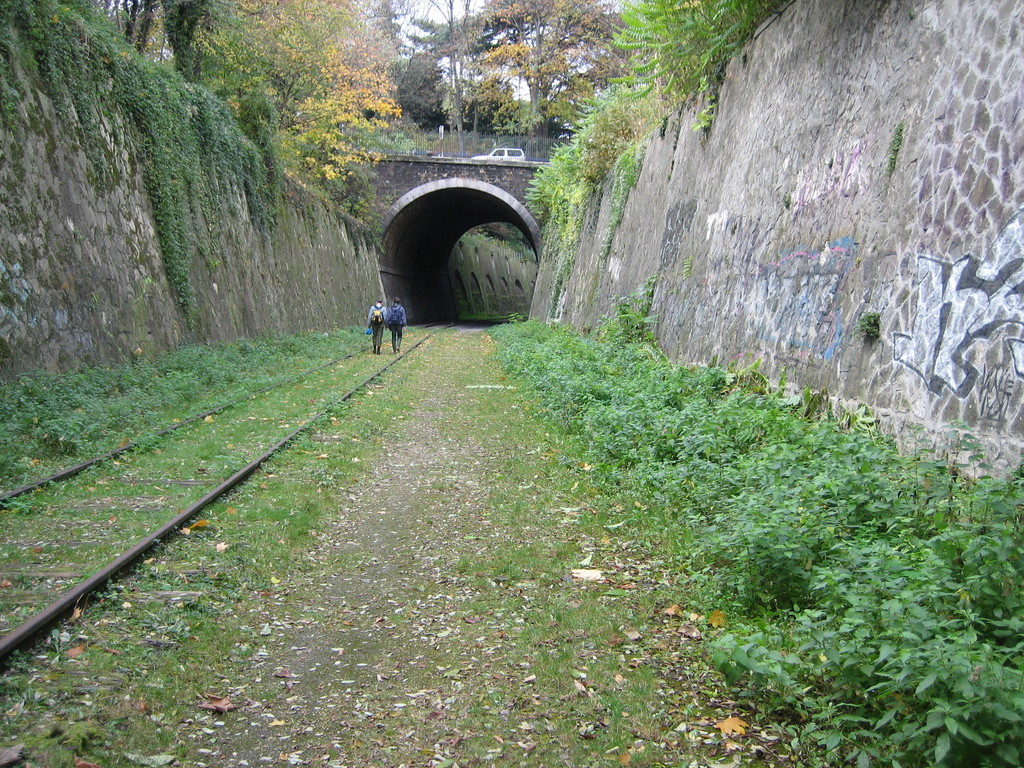Tree: (87, 0, 409, 224), (453, 0, 636, 159), (341, 0, 458, 133)
